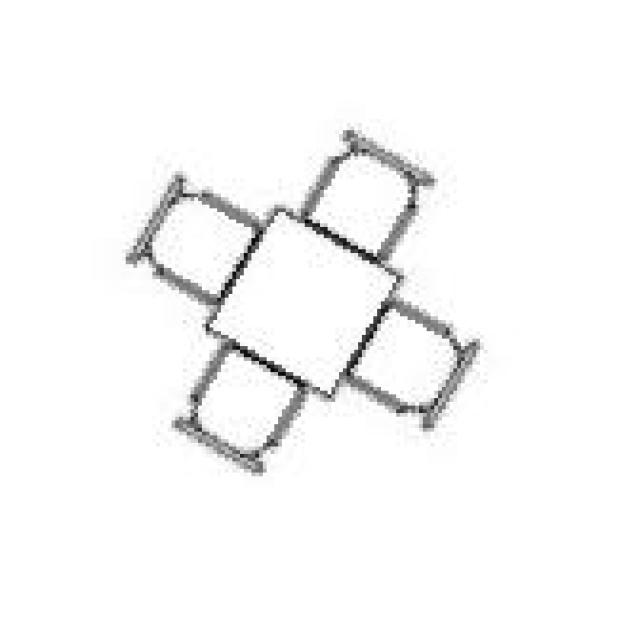table: (122, 130, 472, 473)
